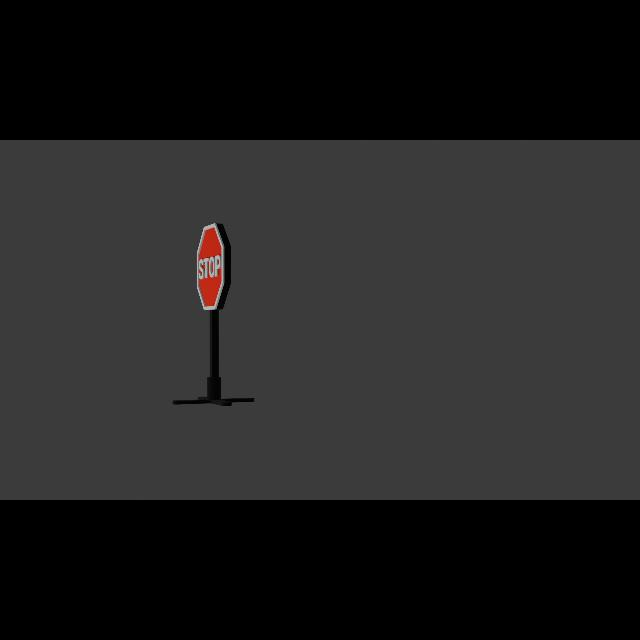sign_stop: (197, 223, 232, 311)
